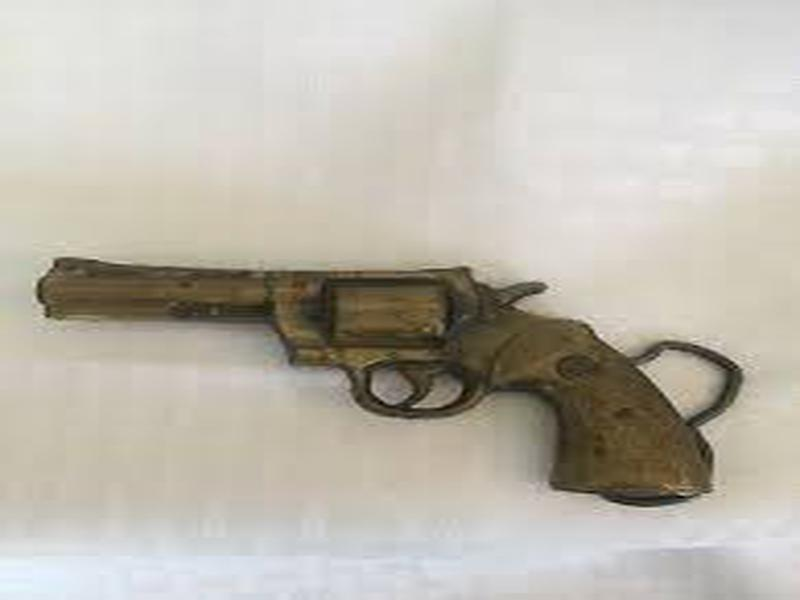gun: (33, 254, 750, 509)
